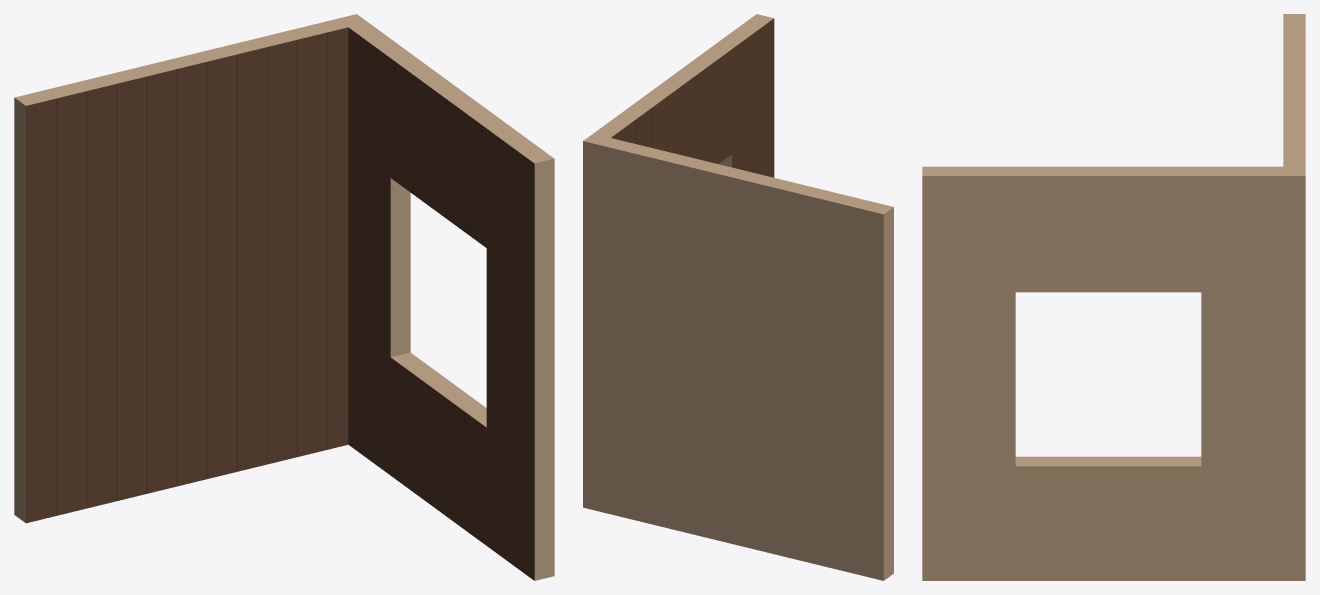
File: Wall3_C9_11.fbx
3 views of the same model, side by side, from view 1: azimuth 30°, elevation 25°; view 2: azimuth 150°, elevation 25°; view 3: azimuth 270°, elevation 25° (orthographic). The views are drawn at different scales.
Visible parts, largest first — view 1: Wall3_C9_11; view 2: Wall3_C9_11; view 3: Wall3_C9_11.
Part boxes in pixels (x1,y1,x2,y2): Wall3_C9_11: (14, 14, 554, 580); Wall3_C9_11: (583, 14, 893, 580); Wall3_C9_11: (922, 14, 1305, 580).
Bounding box in the file's own units: 258 × 300 × 258.
